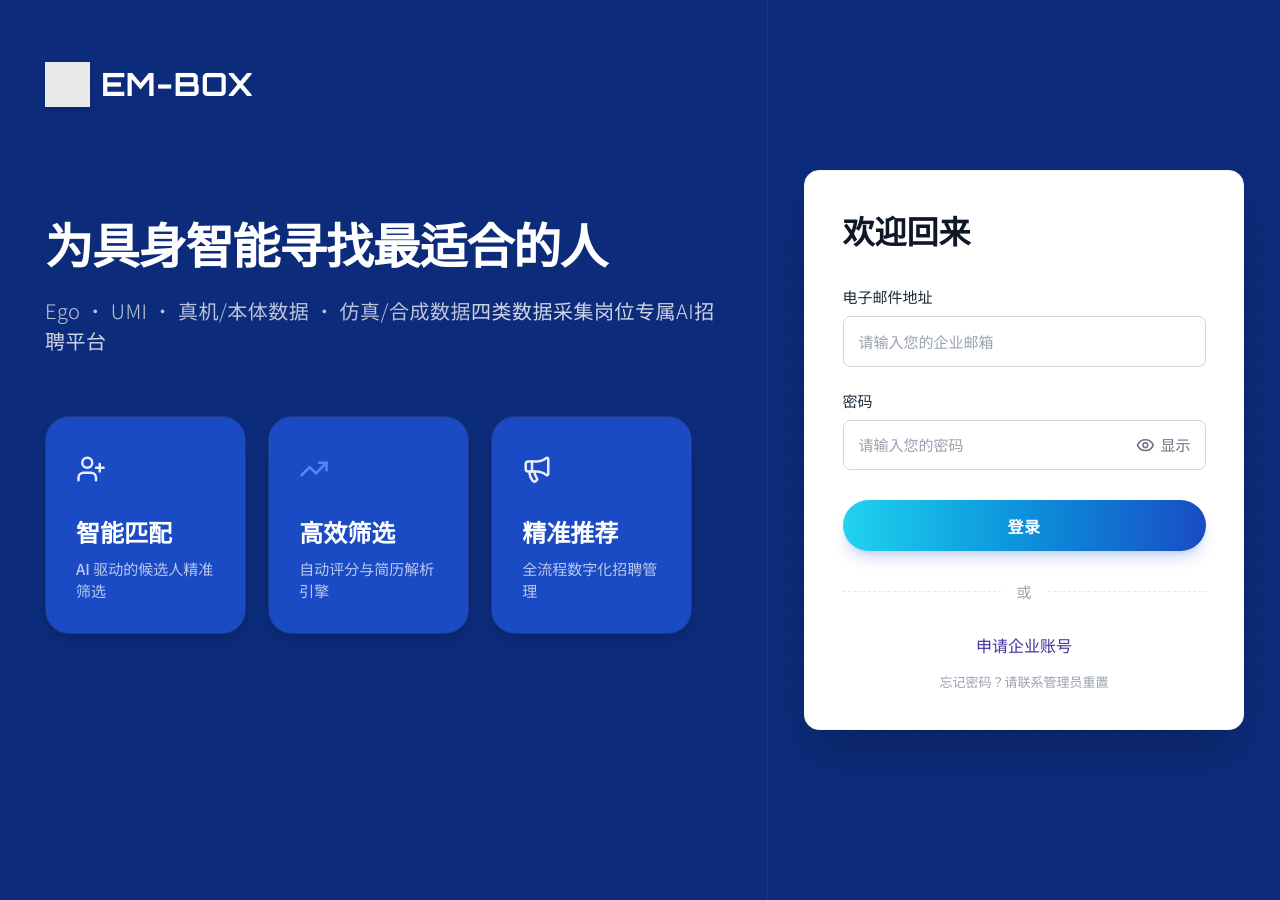
Test: LoginPage › shows apply success state after submission
This screenshot has width=1280, height=900.
Click the button "申请企业账号" at (1024, 645), box [976,633,1072,657]
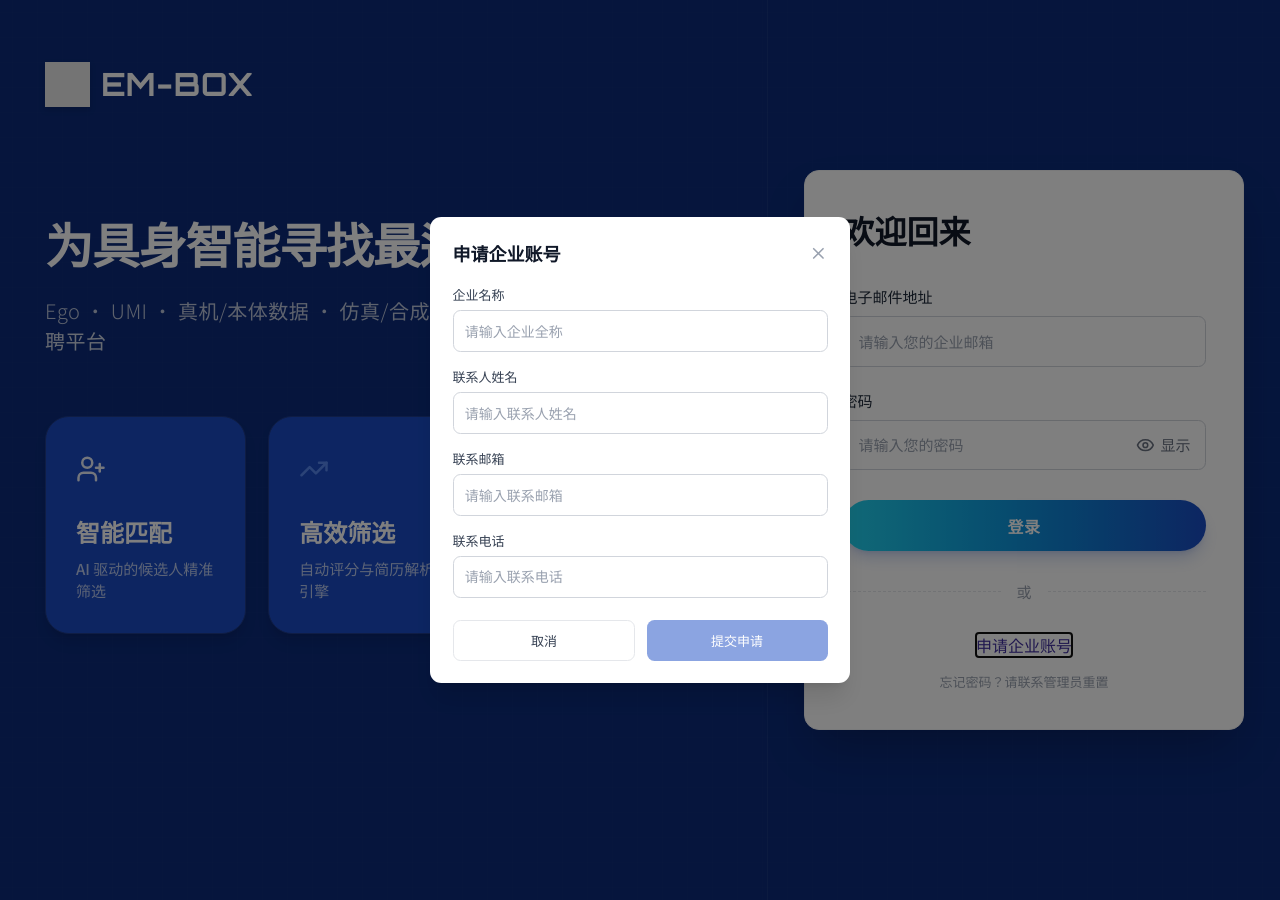
// Fill required fields
Type "测试公司" into the field with placeholder "请输入企业全称" at (640, 331), box [452,310,828,352]
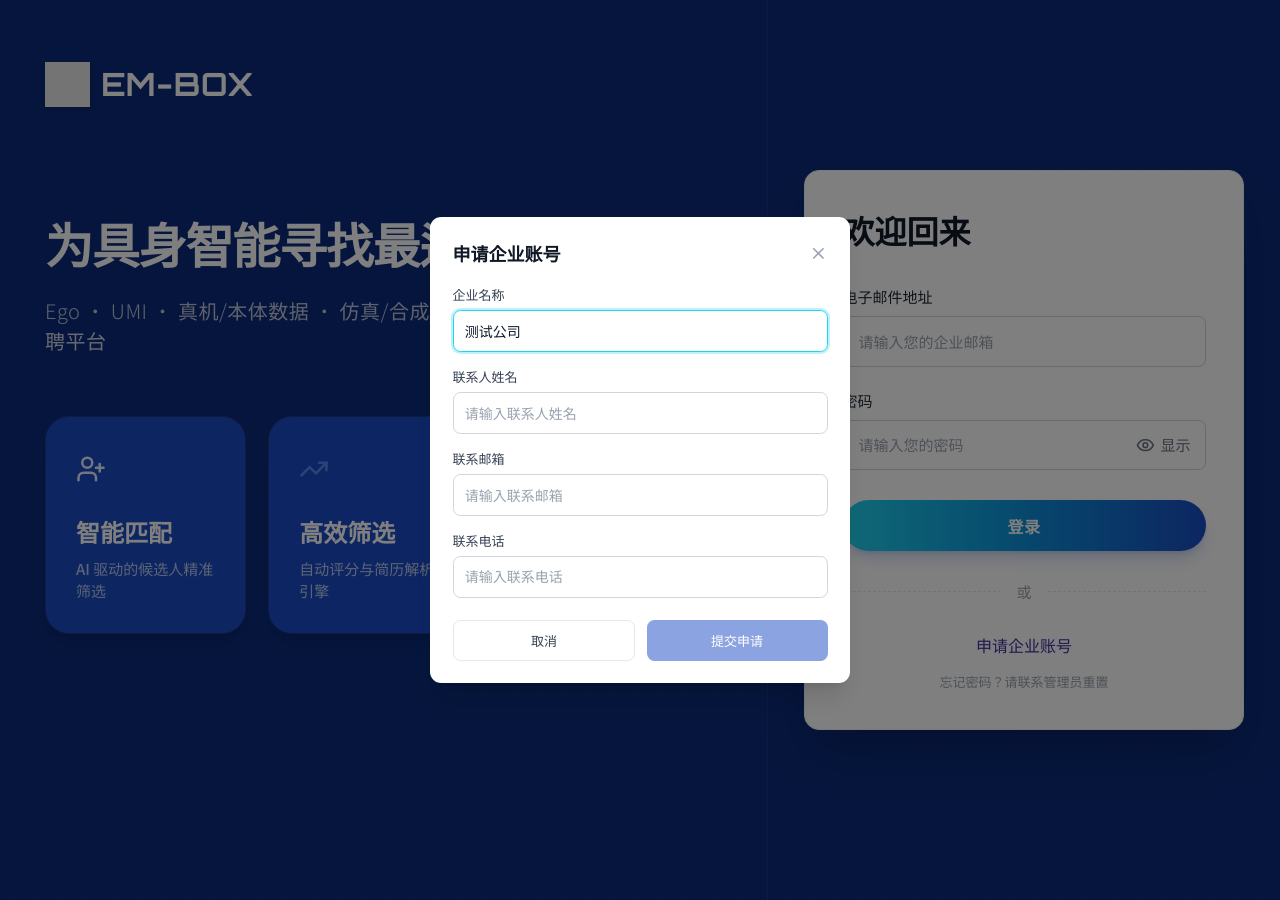
Type "张三" into the field with placeholder "请输入联系人姓名" at (640, 413), box [452,392,828,434]
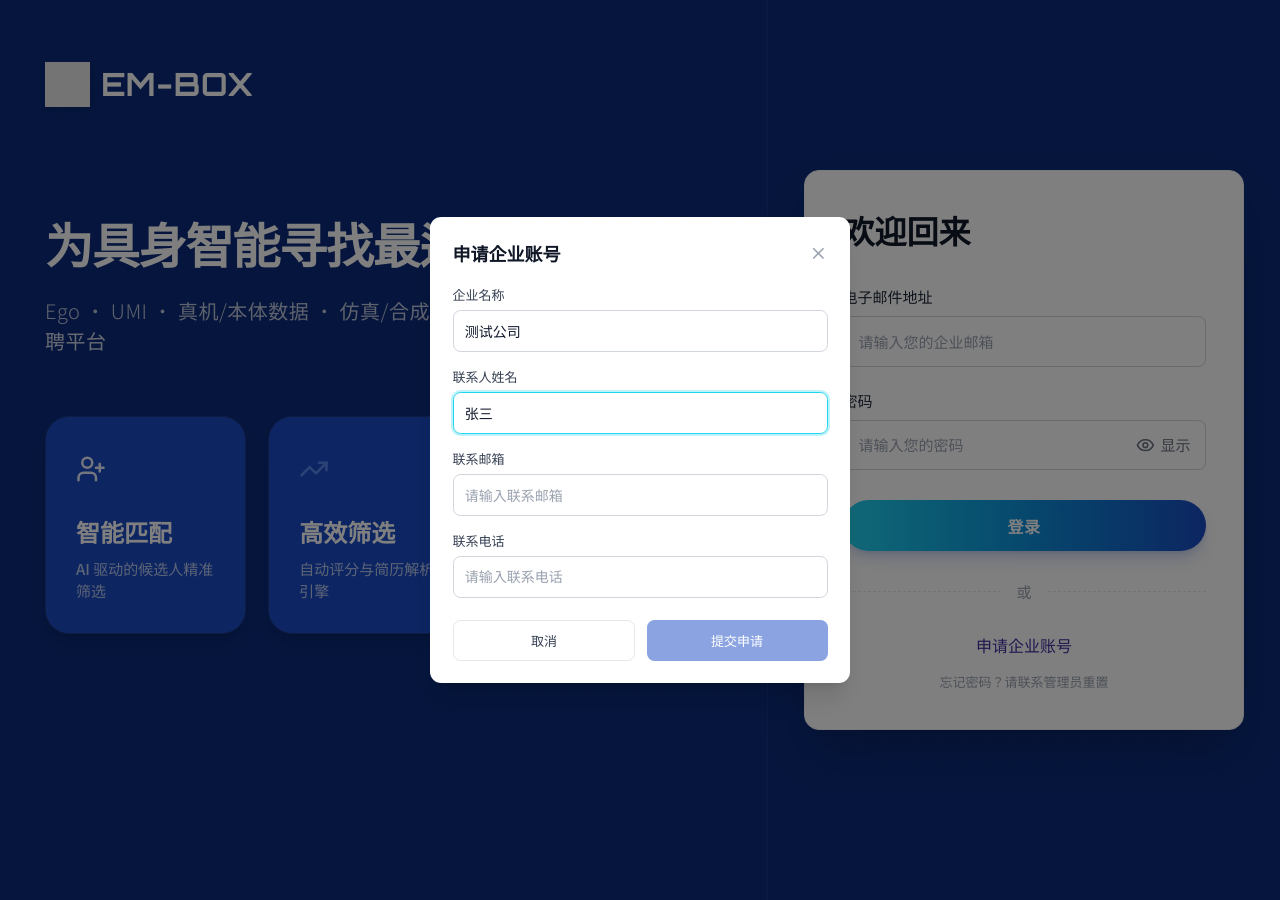
Type "test@co.com" into the field with placeholder "请输入联系邮箱" at (640, 495), box [452,474,828,516]
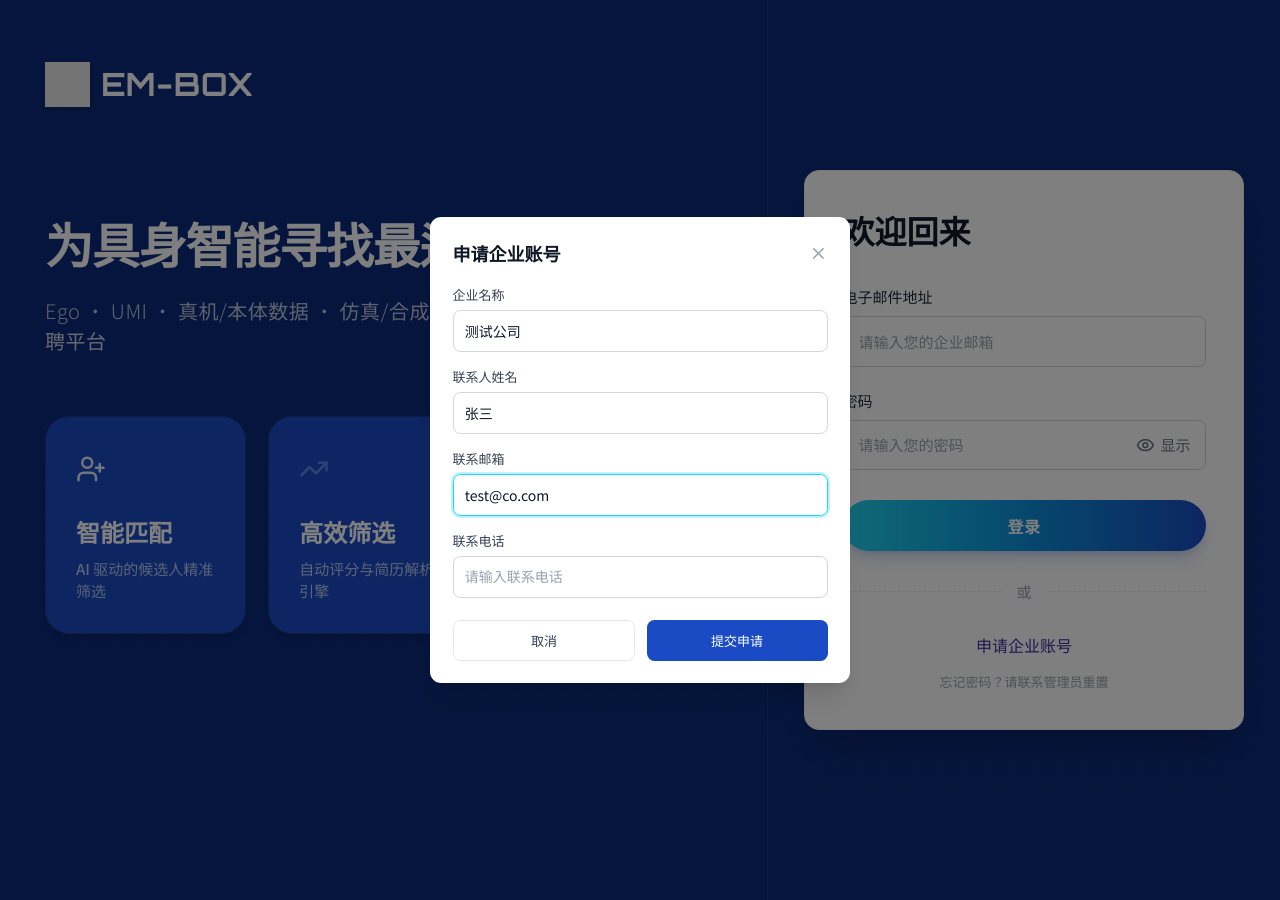
Click the button "提交申请" at (737, 640), box [647,620,828,661]
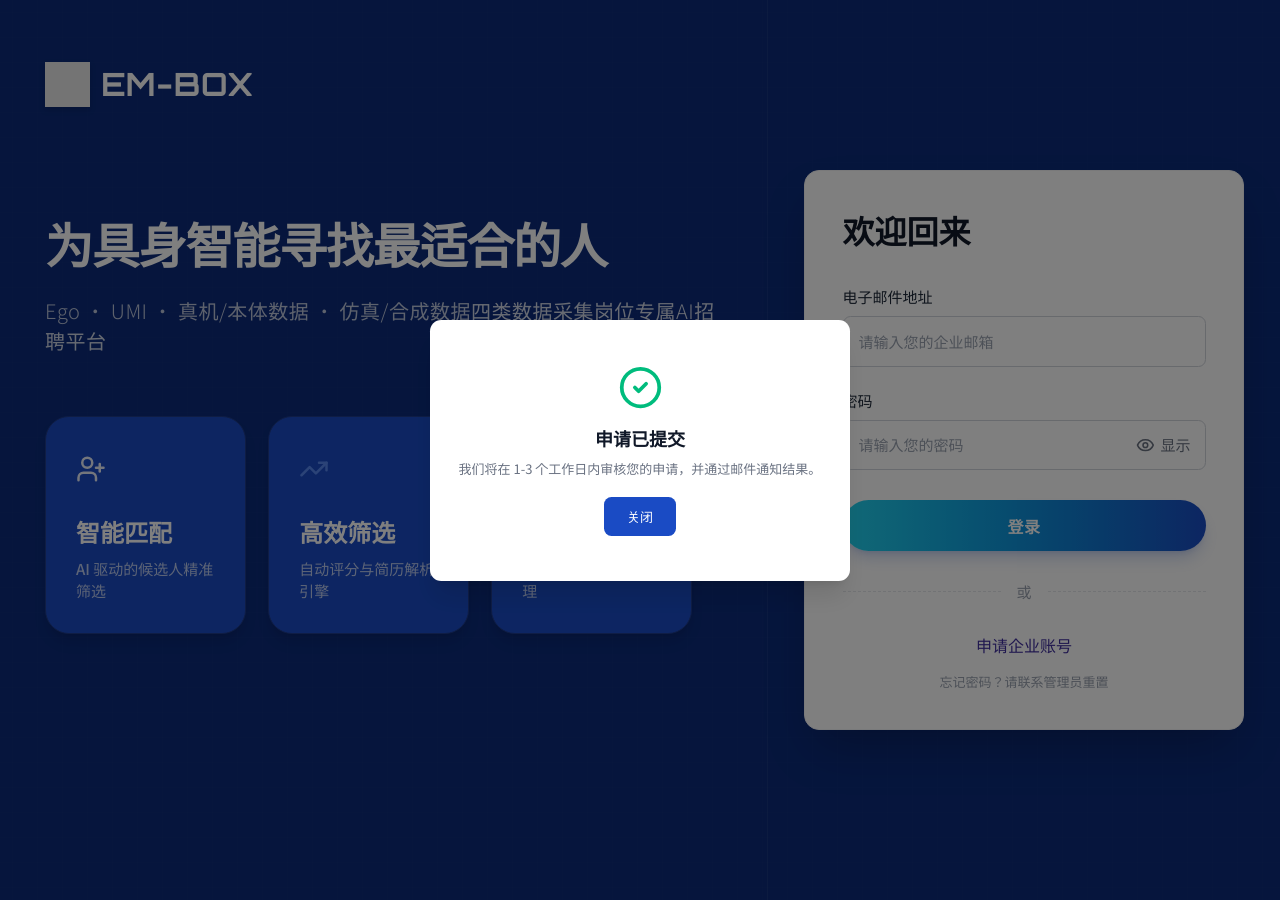
Expected: the heading "申请已提交" is shown, [595,424,685,450]
